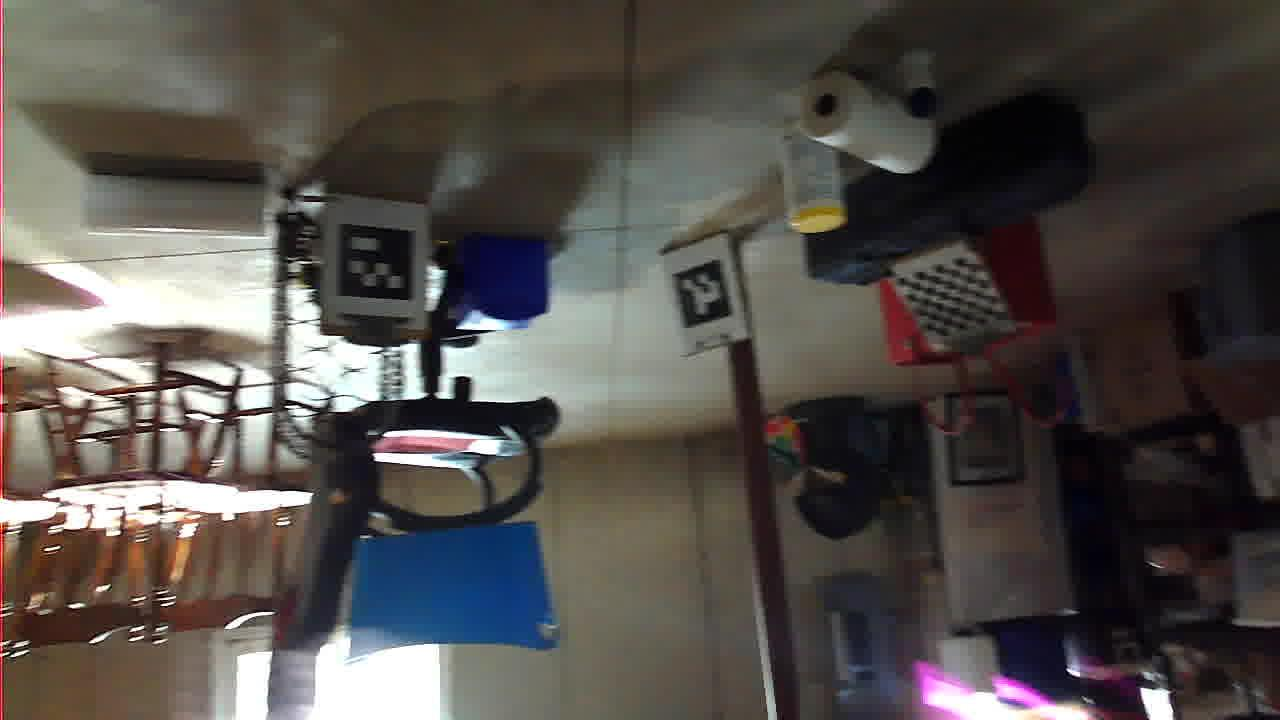coral: (1015, 485, 1195, 551)
